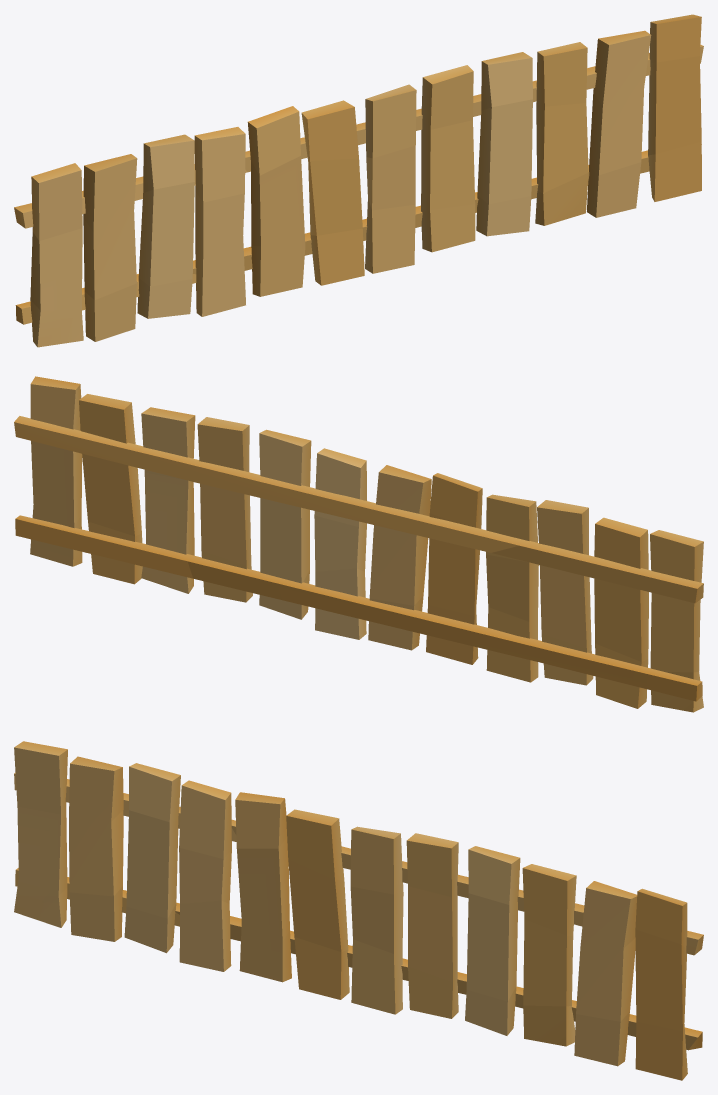
The model's file is PagarKayu.fbx.
3 renders of one model, top to bottom at view 1: azimuth 30°, elevation 25°; view 2: azimuth 150°, elevation 25°; view 3: azimuth 330°, elevation 25°, orthographic.
Visible parts, largest first — view 1: Fence_long; view 2: Fence_long; view 3: Fence_long.
Boxes of the visible parts, <box> form: Fence_long: <box>14,14,703,347</box>; Fence_long: <box>14,376,703,712</box>; Fence_long: <box>14,741,703,1080</box>.
Size of the model in its own units: 303 by 77.64 by 13.56.
